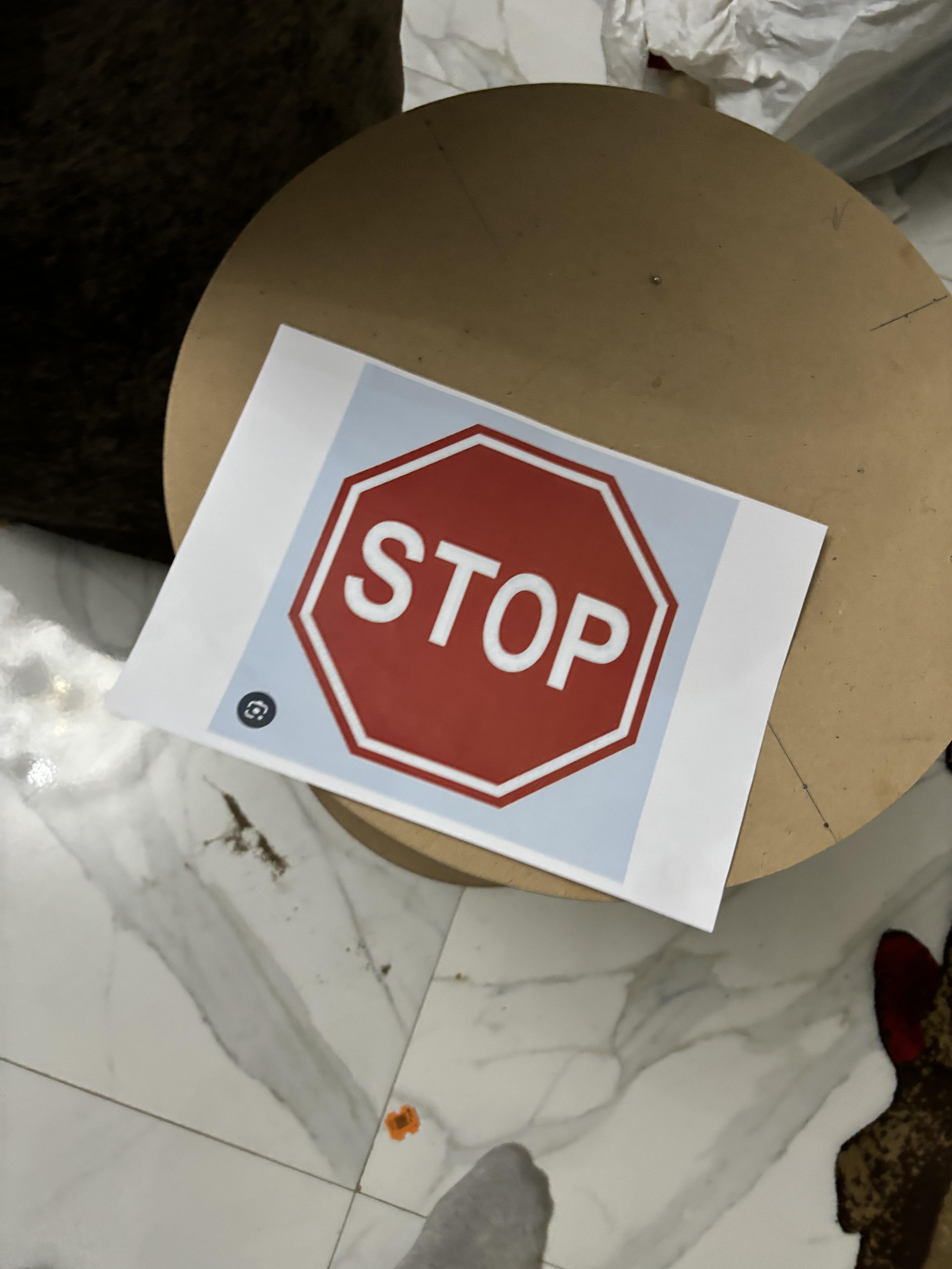Stop: (292, 411, 685, 806)
